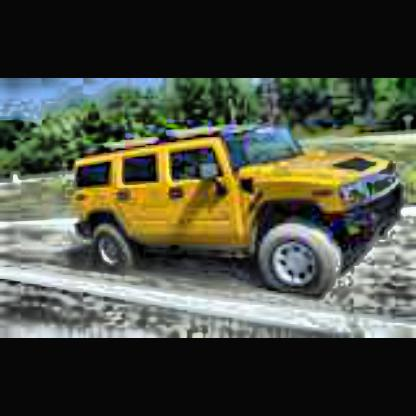AM General Hummer SUV 2000: (76, 126, 408, 302)
